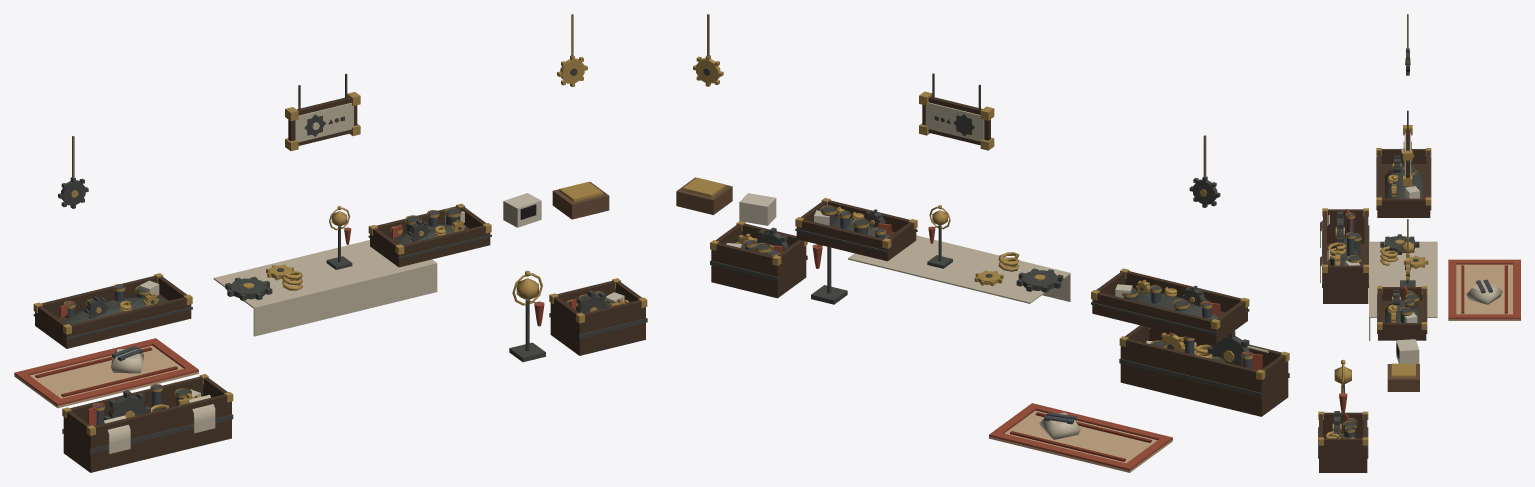
Rendered from market_junk.glb.
3 renders of one model, left to right at view 1: azimuth 30°, elevation 25°; view 2: azimuth 150°, elevation 25°; view 3: azimuth 270°, elevation 25°, orthographic. The views are drawn at different scales.
Visible parts, largest first — view 1: market_junk; view 2: market_junk; view 3: market_junk.
Boxes of the visible parts, bbox=[...] form: market_junk: bbox=[14, 14, 647, 472]; market_junk: bbox=[676, 14, 1289, 472]; market_junk: bbox=[1318, 14, 1520, 472].
Size of the model in its own units: 6.71 by 3.35 by 2.51.
